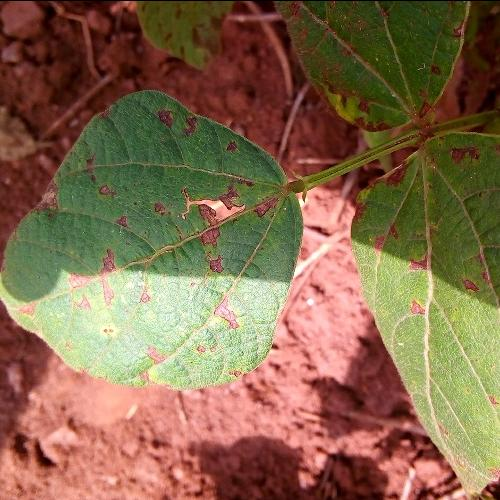hawar: (176, 158, 279, 279), (59, 244, 118, 337), (80, 143, 123, 197), (154, 108, 199, 148), (212, 292, 244, 342), (140, 342, 172, 370), (109, 207, 133, 230), (153, 192, 169, 223), (134, 279, 150, 304), (222, 135, 242, 151), (193, 338, 208, 358)
